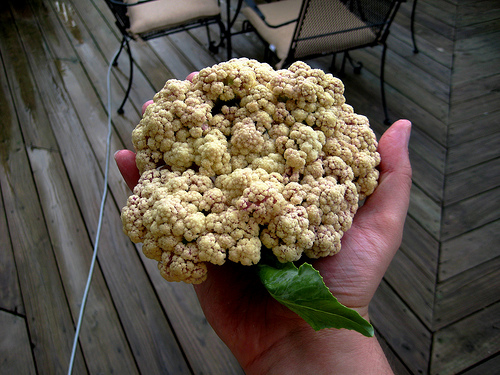cauliflower: (119, 56, 382, 287)
